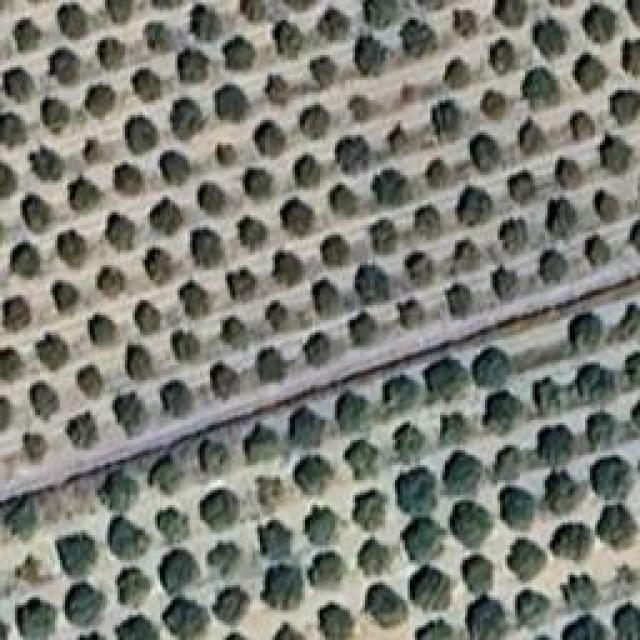Tree: (392, 470, 437, 512), (263, 565, 304, 611), (543, 467, 583, 513), (575, 360, 617, 403), (443, 450, 484, 493), (53, 532, 91, 578), (160, 548, 200, 591), (350, 485, 388, 530), (468, 595, 506, 640), (453, 500, 490, 545), (165, 595, 204, 637), (533, 15, 572, 57), (590, 458, 630, 498), (425, 358, 466, 397), (15, 600, 57, 638), (290, 453, 332, 491), (400, 518, 438, 560), (515, 588, 552, 631), (65, 583, 102, 625), (348, 440, 385, 481), (563, 573, 600, 614), (198, 440, 240, 476), (368, 585, 406, 624), (553, 520, 592, 558), (520, 68, 561, 104), (35, 335, 69, 378), (290, 408, 323, 452), (100, 470, 138, 508), (200, 490, 239, 527), (600, 504, 634, 546), (253, 475, 290, 513), (413, 570, 450, 608), (473, 350, 511, 387), (338, 133, 376, 170), (258, 520, 293, 560), (358, 535, 392, 576), (255, 350, 291, 388), (538, 428, 576, 464), (108, 523, 147, 558), (305, 505, 339, 545), (570, 53, 604, 93), (190, 180, 227, 216), (113, 400, 149, 437), (318, 603, 354, 640), (303, 58, 340, 94), (113, 568, 151, 603), (500, 490, 535, 528), (125, 115, 159, 154), (172, 100, 206, 139), (218, 585, 252, 624), (453, 185, 487, 224), (485, 393, 520, 430), (595, 133, 630, 170), (313, 553, 347, 591), (400, 20, 434, 58), (567, 315, 600, 354), (13, 555, 53, 587), (160, 153, 196, 188), (373, 168, 408, 204), (102, 213, 136, 250), (245, 425, 279, 462), (252, 120, 286, 157), (510, 540, 544, 577), (383, 381, 421, 414), (470, 133, 502, 172), (188, 228, 222, 264), (462, 555, 496, 591), (132, 298, 165, 335), (585, 416, 623, 448), (150, 198, 184, 233), (150, 455, 184, 490), (157, 508, 191, 543), (185, 5, 222, 37), (68, 176, 102, 210), (122, 343, 156, 377), (308, 280, 342, 314), (67, 413, 100, 448), (355, 265, 388, 300), (497, 220, 530, 255), (605, 85, 640, 118), (580, 5, 613, 40), (210, 365, 242, 401), (50, 48, 81, 85), (3, 67, 36, 101), (147, 250, 180, 284), (2, 502, 36, 535), (160, 382, 194, 415), (225, 268, 258, 302), (341, 392, 374, 426), (30, 147, 62, 182), (533, 378, 564, 414), (218, 85, 248, 122), (315, 8, 352, 38), (23, 195, 52, 233), (90, 310, 122, 344), (366, 220, 398, 254), (352, 38, 384, 72), (515, 117, 547, 151), (550, 155, 584, 187), (275, 18, 306, 53), (10, 243, 40, 279), (180, 280, 210, 316), (57, 230, 85, 268), (222, 35, 255, 67), (110, 162, 141, 196), (535, 250, 569, 281), (43, 98, 72, 134), (3, 295, 32, 331), (485, 40, 516, 73), (178, 52, 208, 86), (210, 542, 240, 576), (170, 328, 200, 362), (345, 314, 379, 344), (242, 168, 276, 198), (13, 17, 42, 52), (240, 217, 269, 252), (293, 155, 322, 190), (305, 335, 334, 370), (60, 3, 88, 39), (615, 600, 640, 640), (98, 267, 129, 299), (437, 410, 469, 441), (440, 60, 472, 91), (133, 68, 163, 101), (85, 85, 115, 118), (145, 20, 175, 53), (220, 317, 250, 349), (282, 198, 314, 228), (415, 208, 447, 238), (297, 108, 329, 138), (480, 90, 510, 122), (495, 450, 523, 484), (363, 0, 398, 27), (490, 0, 525, 27), (490, 270, 521, 300), (98, 38, 127, 70), (545, 200, 574, 232), (580, 233, 612, 262), (317, 235, 350, 263), (396, 427, 424, 460), (434, 102, 462, 135), (455, 240, 480, 276), (423, 158, 453, 188), (590, 194, 620, 224), (34, 386, 62, 418), (120, 615, 155, 640), (408, 255, 435, 287), (0, 115, 26, 148), (445, 285, 471, 318), (413, 617, 450, 640), (563, 620, 605, 640), (273, 255, 301, 284), (265, 73, 293, 102), (617, 37, 640, 72), (328, 185, 356, 213), (263, 303, 292, 330), (50, 283, 80, 309), (510, 173, 536, 203), (400, 300, 425, 331), (620, 302, 640, 340), (453, 10, 481, 37), (80, 368, 105, 398), (353, 95, 378, 124), (568, 110, 598, 134), (0, 350, 19, 387), (240, 0, 269, 22), (23, 433, 48, 458), (105, 0, 132, 23), (0, 162, 18, 196), (273, 623, 306, 640), (390, 125, 411, 151), (215, 142, 239, 164), (83, 138, 103, 164), (625, 352, 640, 384), (0, 398, 13, 434), (623, 0, 640, 25), (627, 218, 639, 253), (153, 0, 183, 11), (633, 404, 640, 434)
